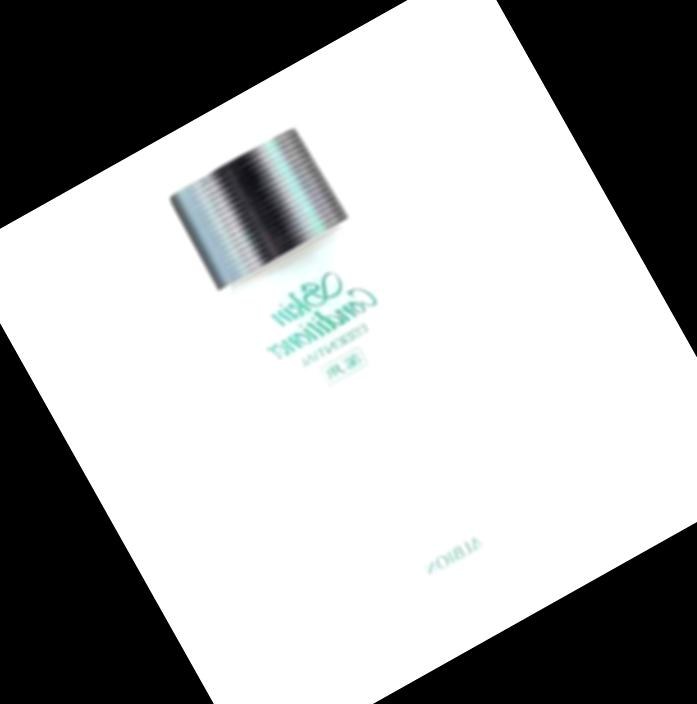cosmetic: (162, 117, 548, 633)
